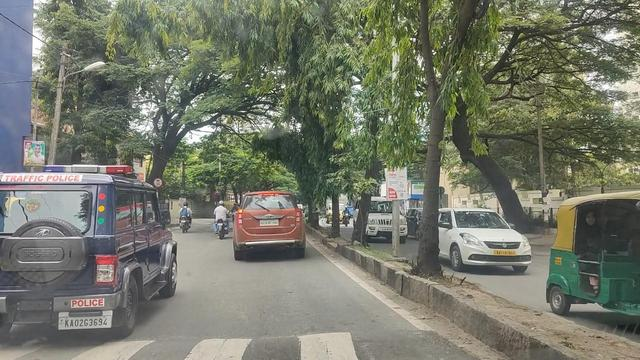LMV: (0, 168, 183, 328), (235, 193, 304, 261)
SpeedBump: (28, 334, 362, 360)
